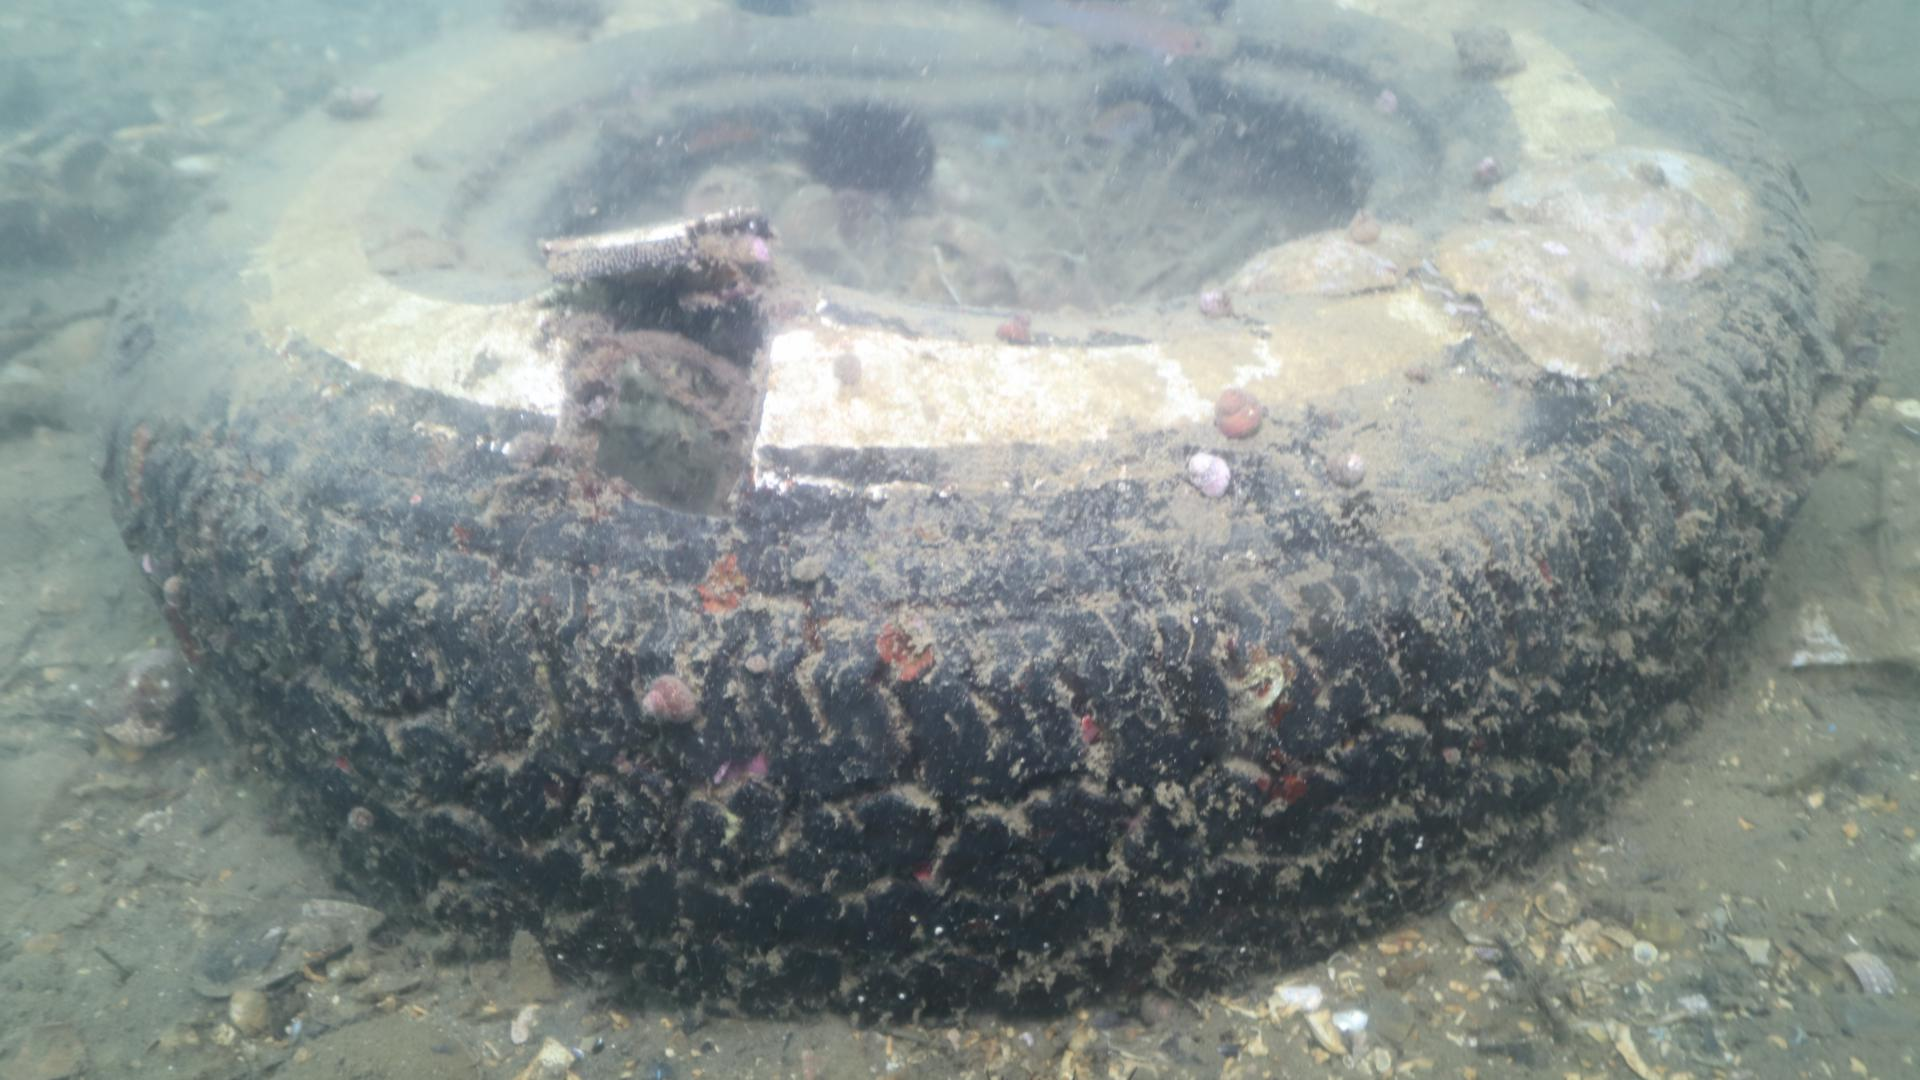tire: (95, 0, 1828, 1025)
